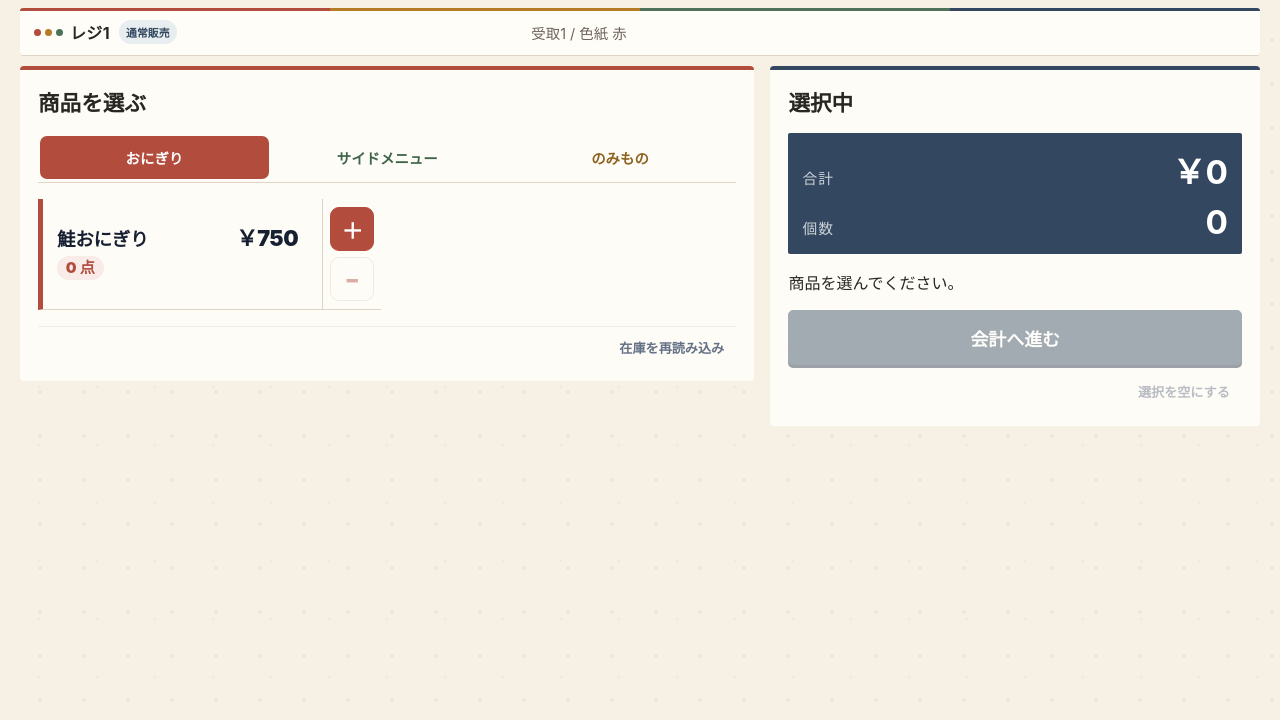
Test case: RegisterPage › カートの削除は確認後にすべての個数を削除する
Check: the text "鮭おにぎり" is shown, box [57,229,148,250]
Click the button with aria-label "鮭おにぎり を 1 個追加する".
click(103, 239)  # box [43,199,312,309]
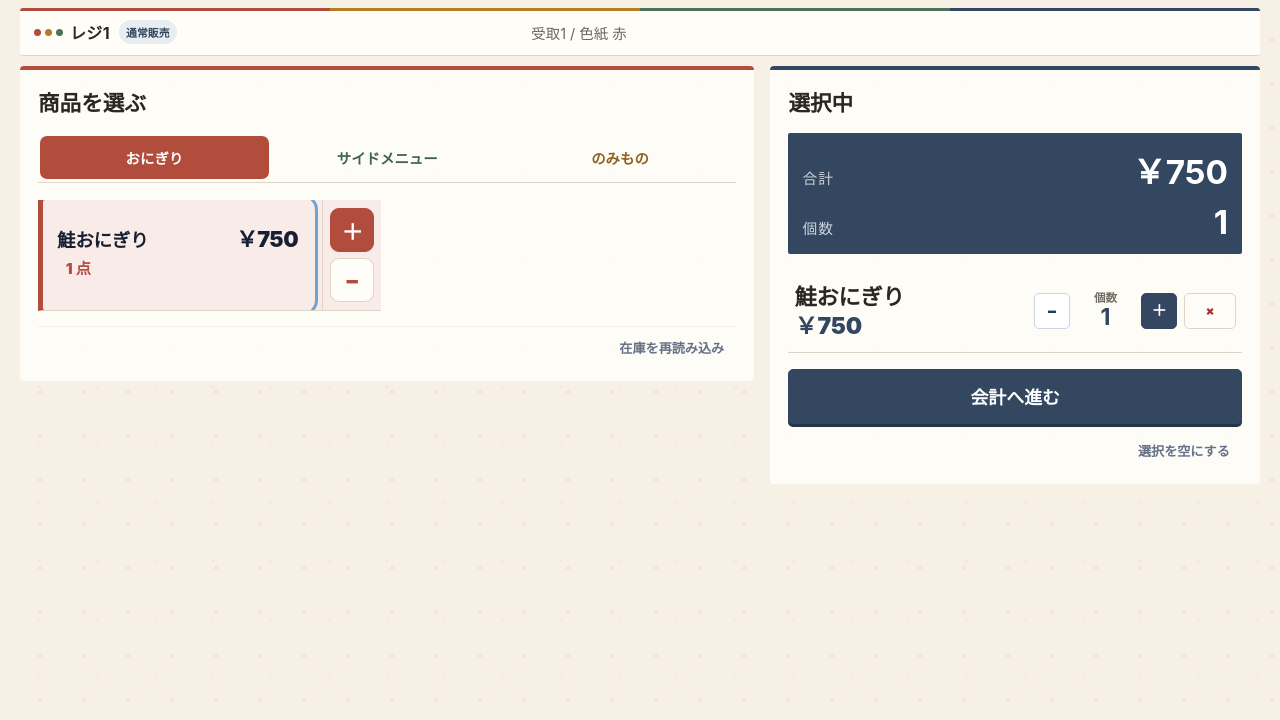
Click the button with aria-label "鮭おにぎり を 1 個追加する".
click(103, 240)  # box [43,200,312,310]
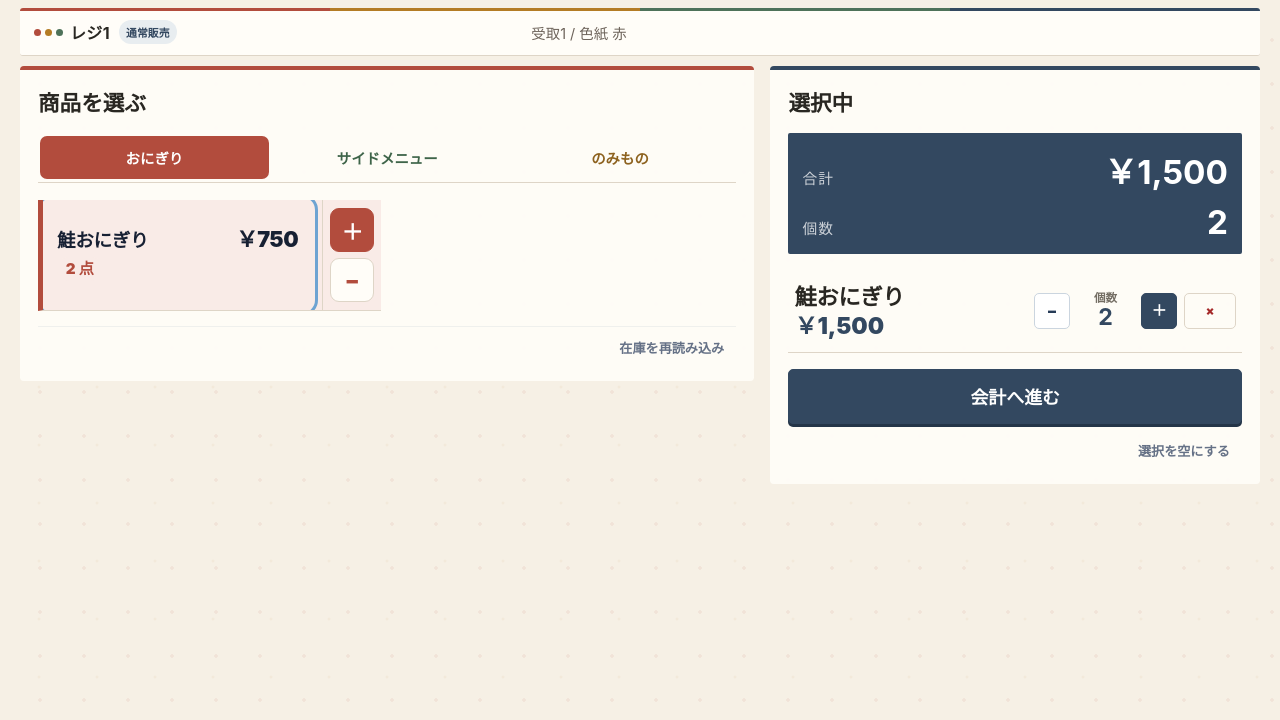
Click the button named "鮭おにぎりをカートからすべて削除する".
click(1210, 311)  # box [1184,293,1236,329]
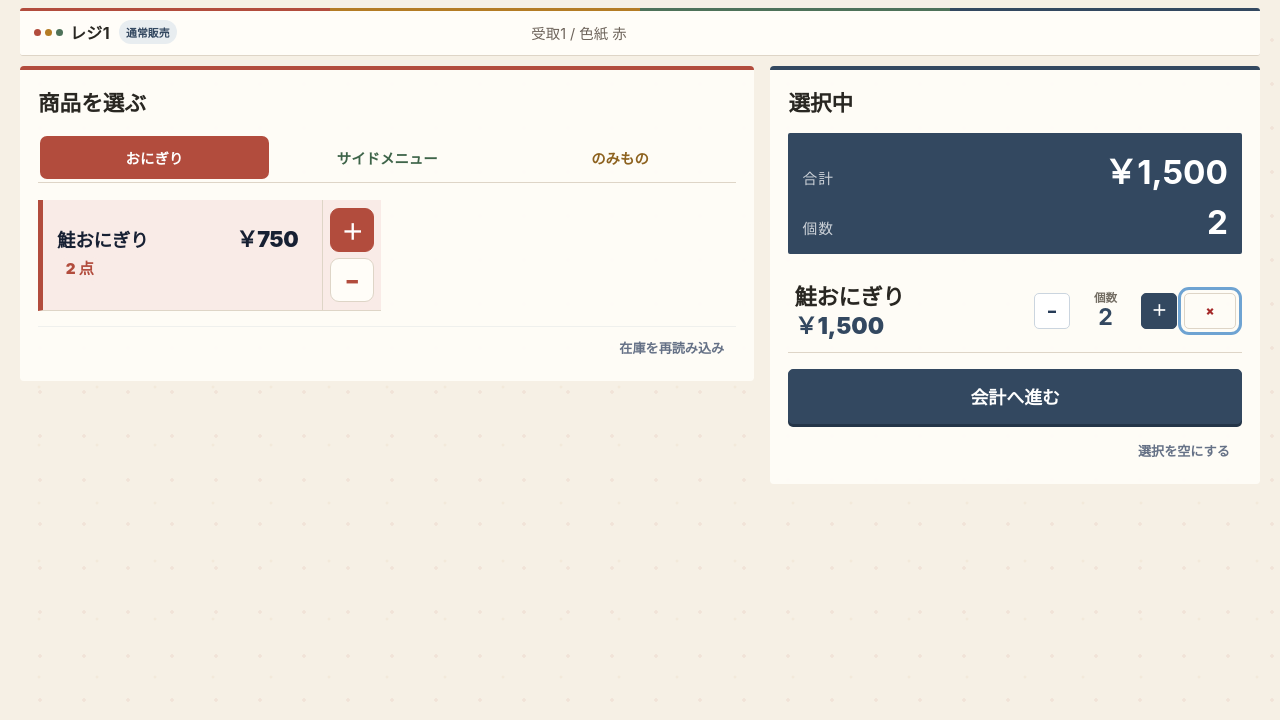
Check: the text "商品を選んでください。" is not shown
Click the button named "鮭おにぎりをカートからすべて削除する".
click(1210, 311)  # box [1184,293,1236,329]
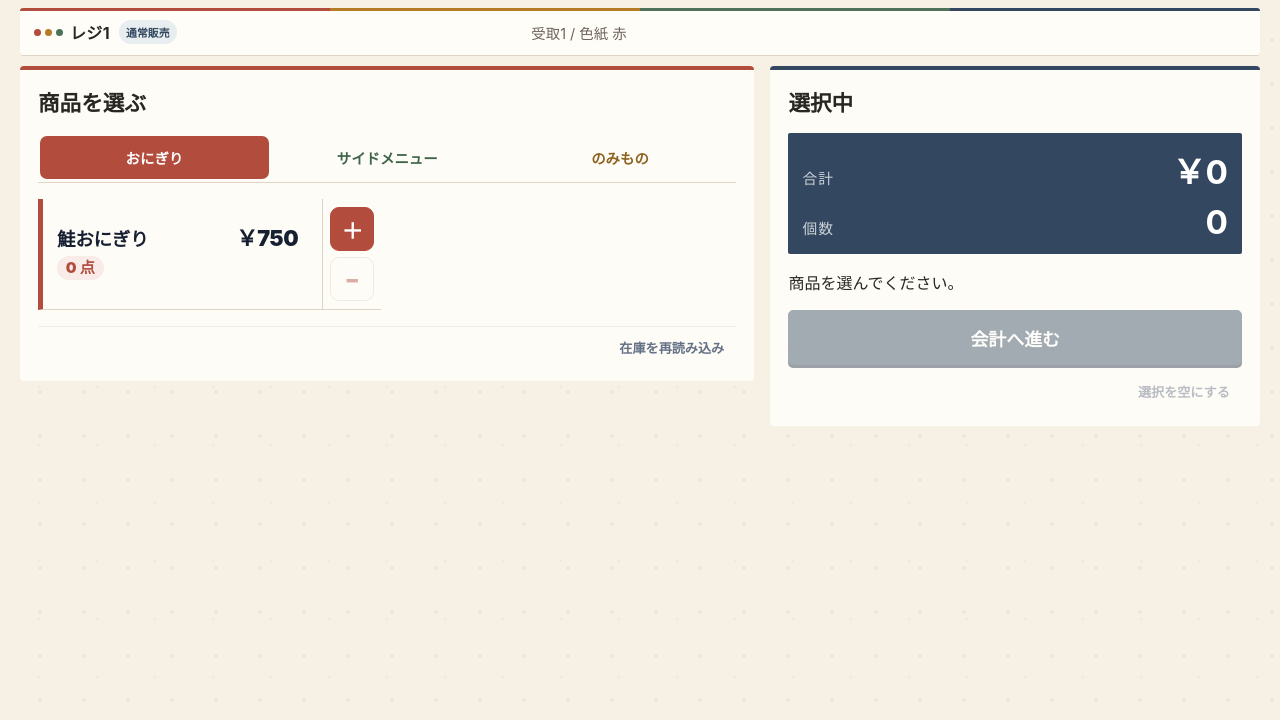
Check: the text "商品を選んでください。" is shown, box [788,273,964,293]
